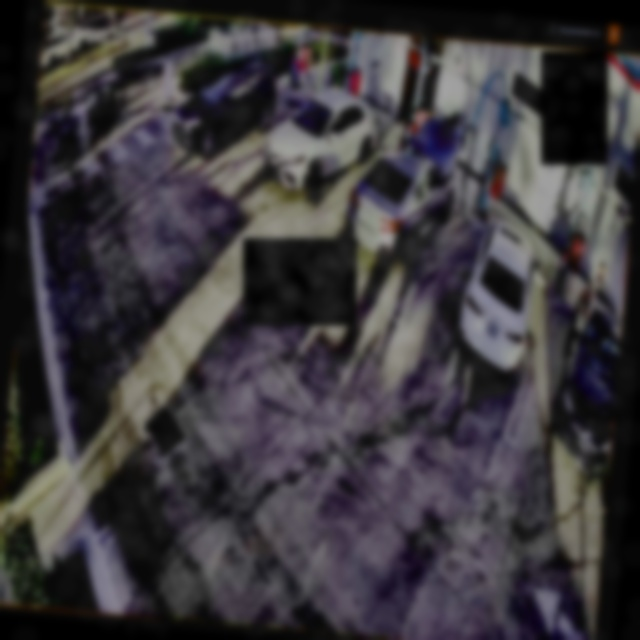Car: (347, 115, 460, 273), (262, 83, 382, 198), (455, 215, 538, 372), (170, 58, 281, 163)
